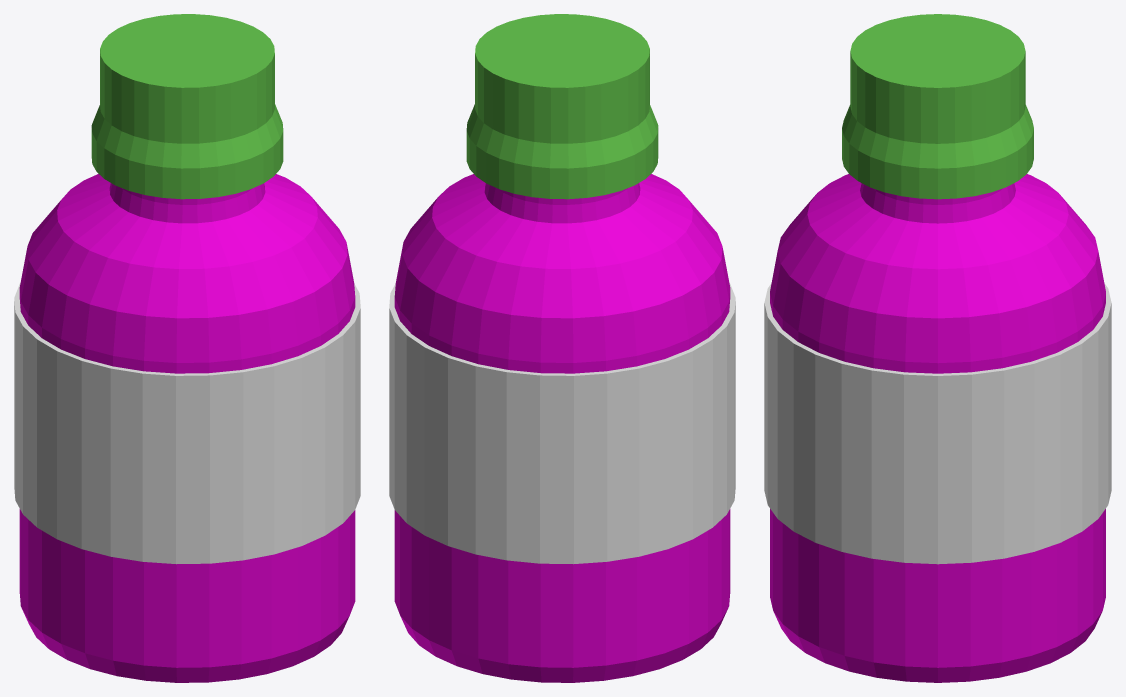
Rendered from Fles1-nonglass.fbx.
3 views of the same model, side by side, from view 1: azimuth 30°, elevation 25°; view 2: azimuth 150°, elevation 25°; view 3: azimuth 270°, elevation 25° (orthographic).
Parts seen in each view (by area): view 1: Cylinder, Cylinder.001, Cylinder.002; view 2: Cylinder, Cylinder.001, Cylinder.002; view 3: Cylinder, Cylinder.001, Cylinder.002.
Boxes of the visible parts, box(x1,y1,x2,y2) form: Cylinder: box(19, 174, 355, 682); Cylinder.001: box(14, 283, 360, 564); Cylinder.002: box(91, 14, 283, 199); Cylinder: box(394, 174, 730, 682); Cylinder.001: box(389, 283, 735, 564); Cylinder.002: box(466, 14, 658, 199); Cylinder: box(770, 174, 1105, 682); Cylinder.001: box(764, 283, 1111, 564); Cylinder.002: box(842, 14, 1033, 199).
Size of the model in its own units: 14.05 by 25.68 by 14.05.
